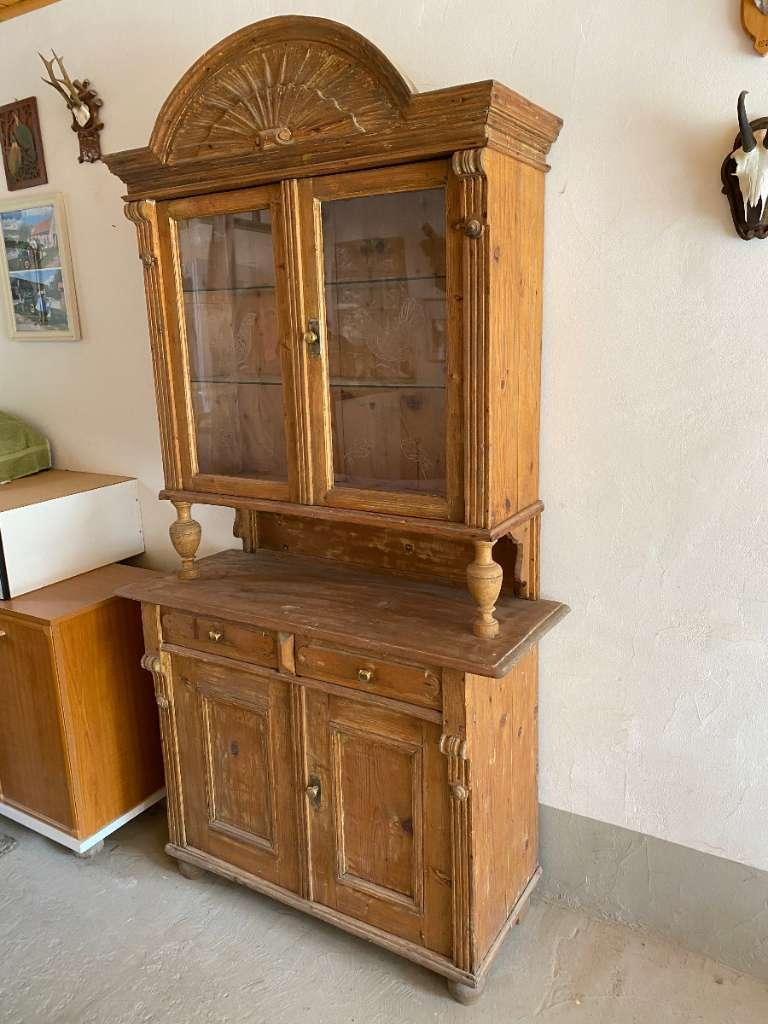cabinet_door: (298, 174, 473, 508), (168, 189, 291, 488), (305, 707, 426, 922), (183, 674, 298, 876), (303, 643, 437, 704), (164, 610, 275, 656)
handle: (352, 661, 380, 694), (300, 323, 327, 357), (304, 773, 323, 814), (202, 623, 227, 651)
